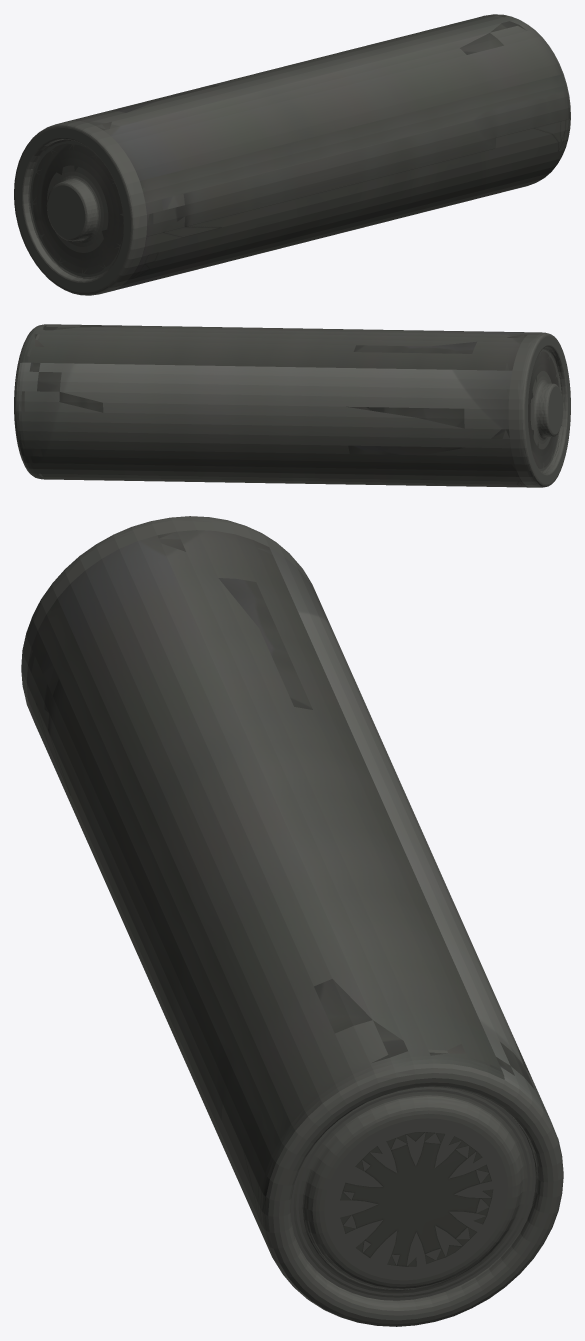
Rendered from AAbattery.obj.
The picture shows the model from 3 angles, top to bottom: view 1: azimuth 30°, elevation 25°; view 2: azimuth 150°, elevation 25°; view 3: azimuth 270°, elevation 25°; orthographic projection. The views are drawn at different scales.
Bounding box in the file's own units: 0.051 × 0.0197 × 0.0248.
1 material, 1 textured.
